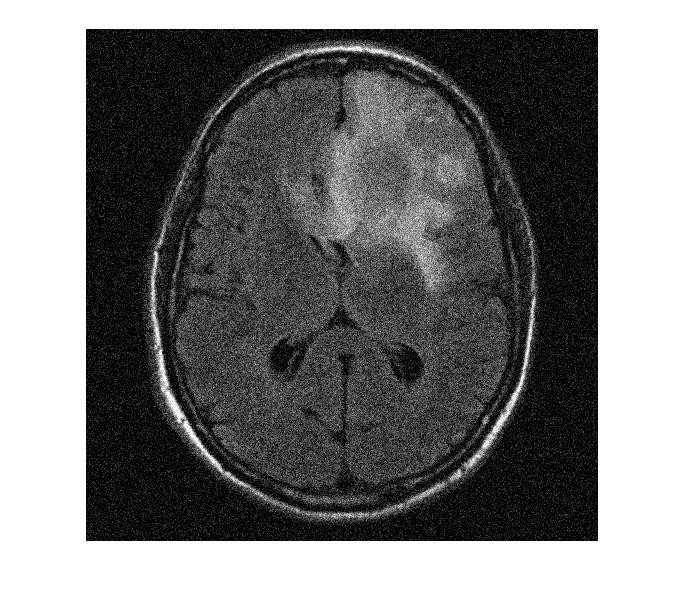Brain_Cancer: (326, 101, 456, 240)
